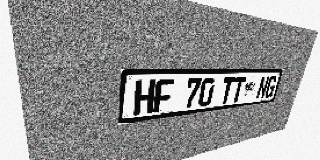0: (197, 78, 216, 107)
7: (183, 78, 202, 109)
F: (153, 79, 174, 113)
G: (264, 76, 278, 98)
H: (133, 80, 156, 116)
N: (255, 76, 270, 100)
T: (219, 77, 236, 104), (230, 77, 246, 103)
